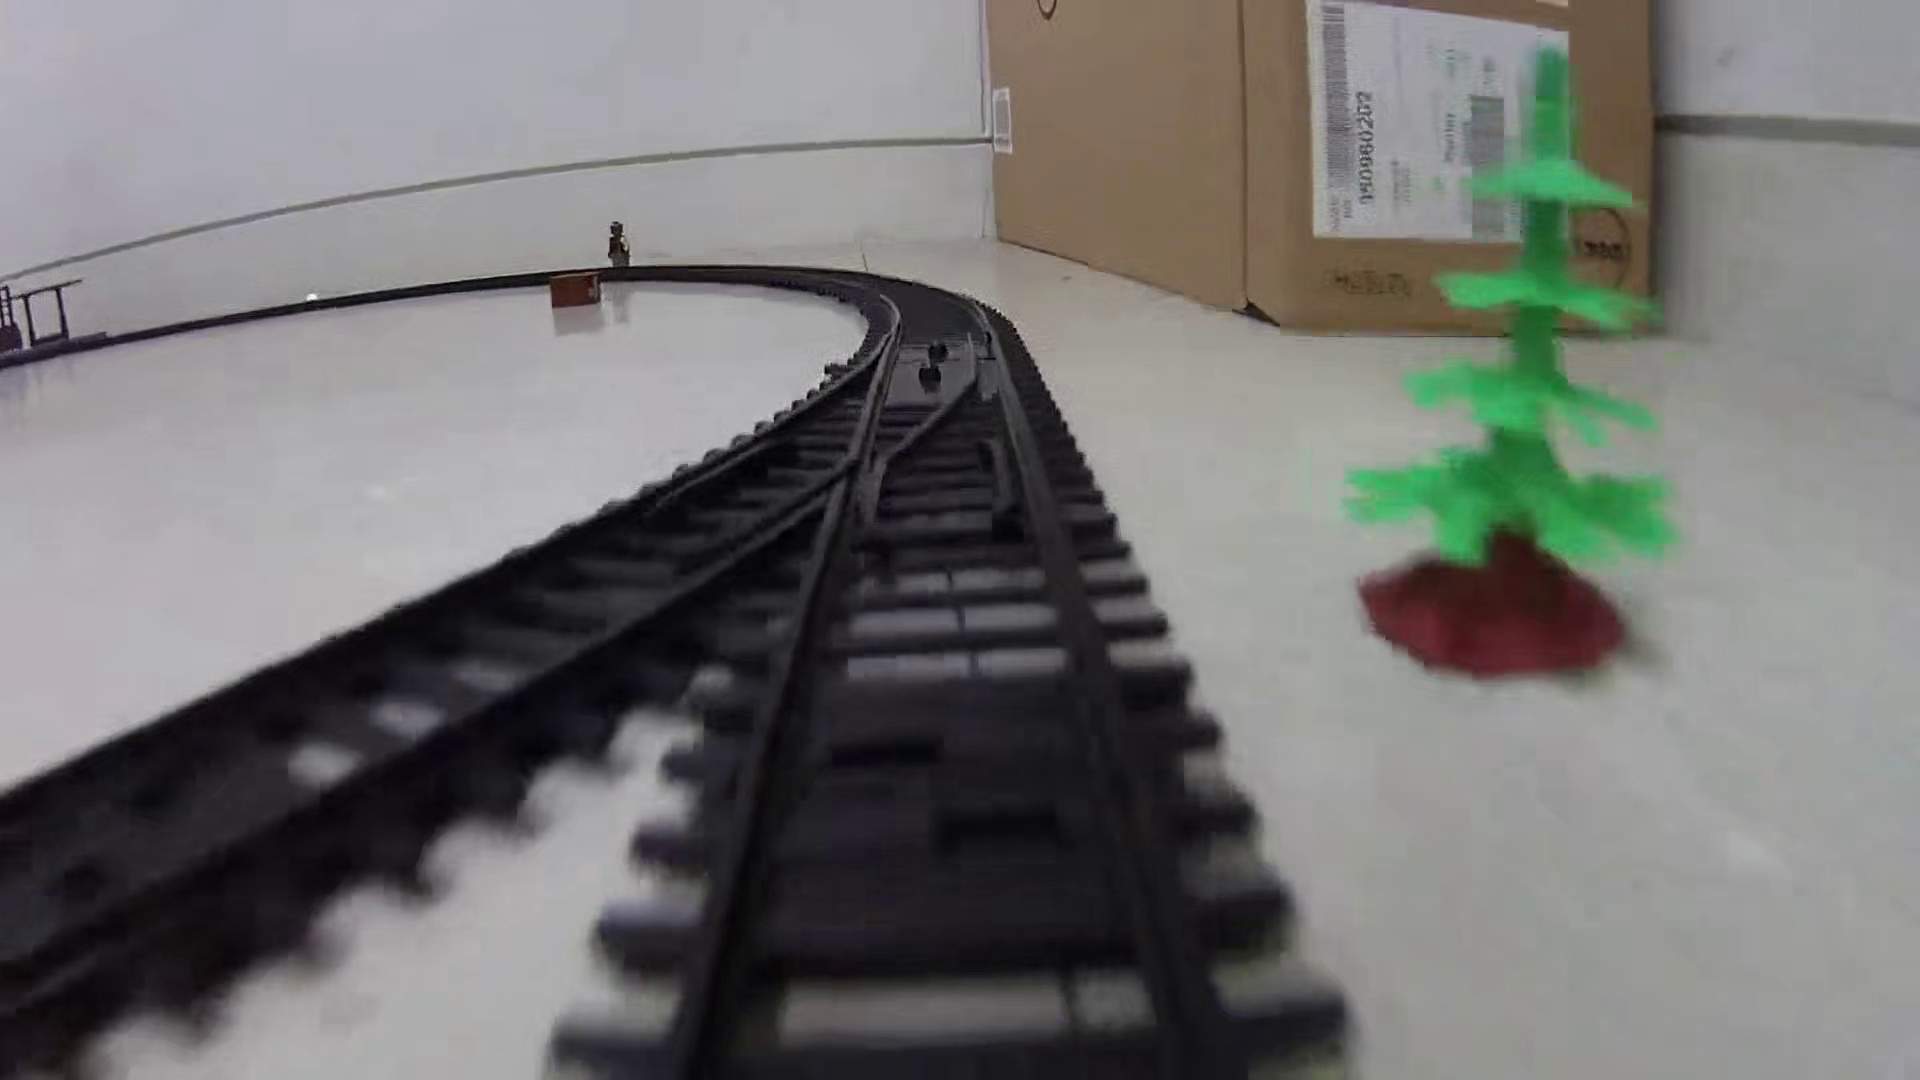box: (547, 271, 603, 314)
people: (604, 218, 634, 272)
tree: (1340, 40, 1679, 680)
